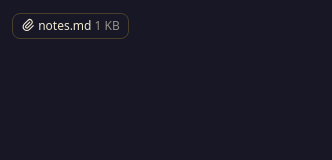
Test case: Attachments › opens a file in a new tab on click, and says so plainly when it has been removed
Click the button "notes.md 1 KB". click: (70, 26)
box: [12,13,129,39]
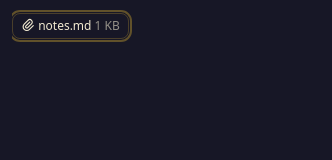
Click the button "notes.md 1 KB". click: (70, 26)
box: [12,13,129,39]
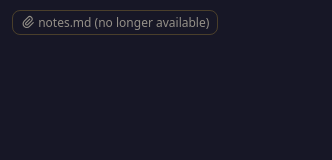
Expected: the text "notes.md (no longer available)" is shown, [12,10,218,35]
